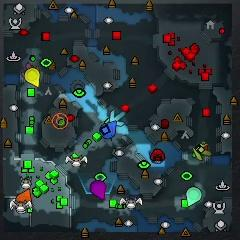p1: (101, 121, 117, 138)
p2: (186, 187, 202, 206)
p3: (90, 180, 106, 200)
p4: (25, 68, 40, 87)
p5: (17, 188, 31, 203)
x1: (22, 63, 32, 76)
x2: (193, 143, 211, 160)
x3: (110, 110, 125, 126)
